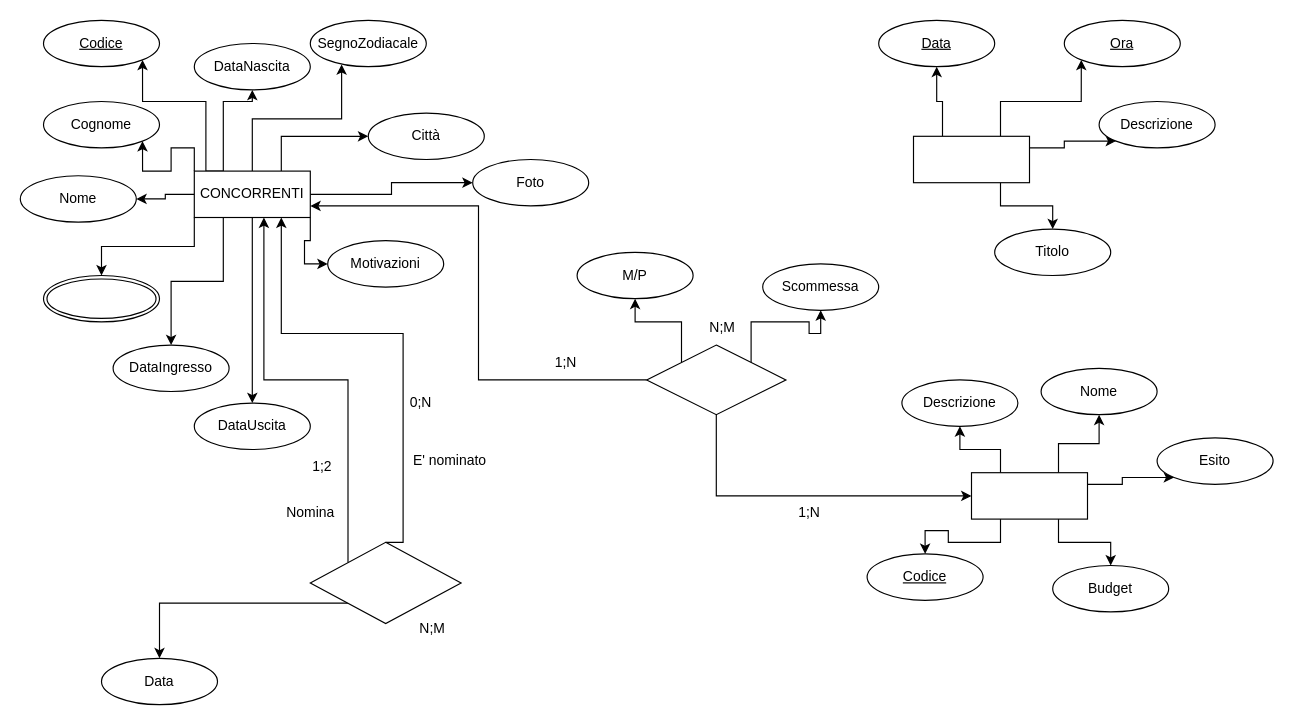
This 1293x725 diagram has some shape labels left out. The shapes that lost their labels are listed below. From the top down, each one's centre as x and y in pixels, then its label:
At [971,159]: "NEWS".
At [101,298]: "Hobby".
At [716,379]: "Esegue".
At [1029,495]: "ATTIVITA' SETTIMANALI".
At [385,582]: "Nomination".
